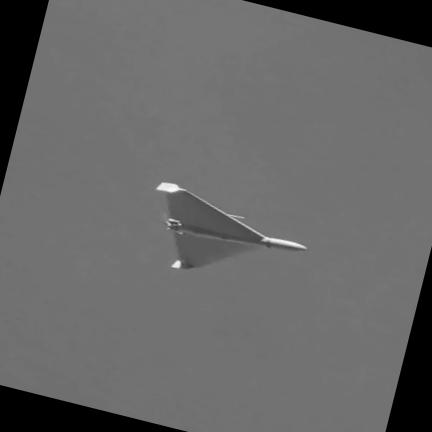Shahed: (156, 181, 306, 268)
